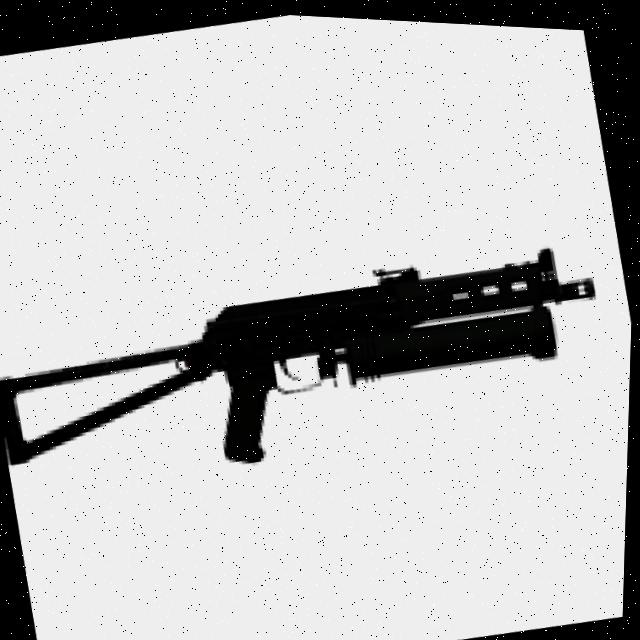firearm: (0, 205, 623, 517)
